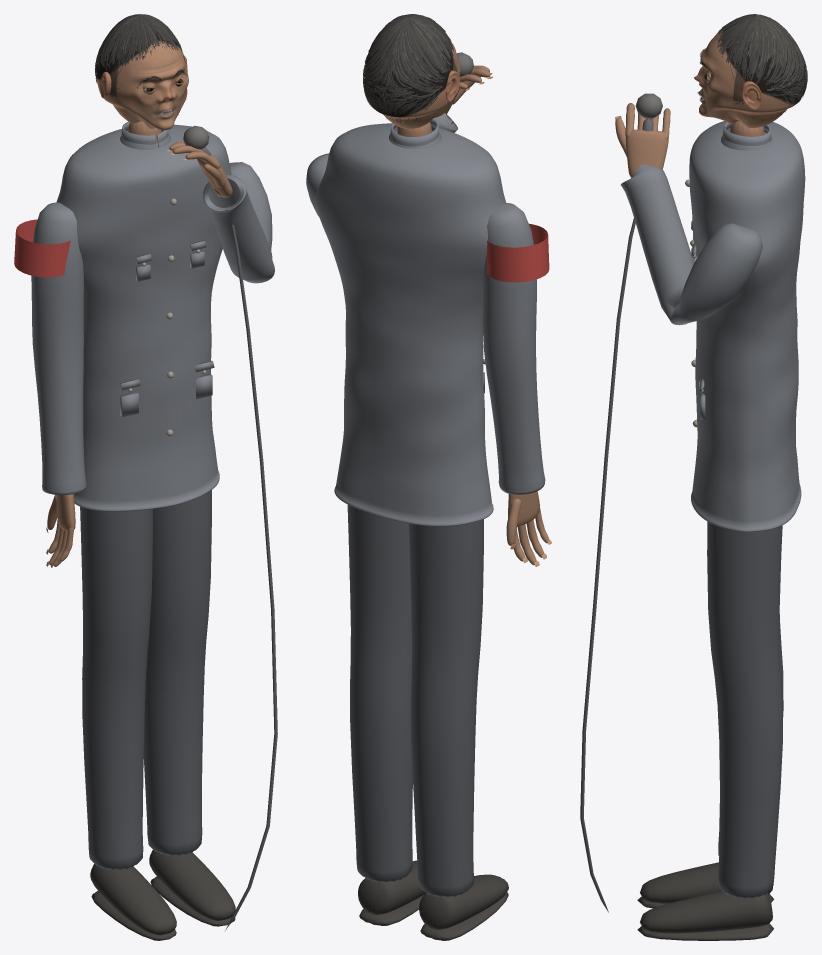
File: emcee_stage.glb
3 views of the same model, side by side, from view 1: azimuth 30°, elevation 25°; view 2: azimuth 150°, elevation 25°; view 3: azimuth 270°, elevation 25° (orthographic). The views are drawn at different scales.
Visible parts, largest first — view 1: Torso, LegL, LegR, SleeveL, Head, SleeveR, FootL, FootR, MicCable, HairCards, Armband, HandL (+3 smaller); view 2: Torso, LegL, LegR, SleeveL, HairCards, FootL, Head, FootR, Armband, HandL, SleeveR, Collar (+1 smaller); view 3: Torso, LegR, SleeveR, FootR, Head, HairCards, MicCable, HandR, FootL, Collar, MicHead.
Boxes of the visible parts, box(x1,y1,x2,y2) form: Torso: box(56, 124, 231, 511); LegL: box(80, 506, 152, 870); LegR: box(143, 490, 211, 855); SleeveL: box(31, 202, 86, 494); Head: box(96, 26, 188, 130); SleeveR: box(203, 162, 274, 283); FootL: box(90, 864, 176, 940); FootR: box(149, 849, 235, 926); MicCable: box(224, 204, 277, 931); HairCards: box(95, 14, 186, 102); Armband: box(14, 219, 70, 277); HandL: box(47, 494, 75, 566); Torso: box(315, 123, 506, 526); LegL: box(409, 519, 483, 897); LegR: box(347, 505, 412, 882); SleeveL: box(482, 203, 545, 494); HairCards: box(363, 14, 459, 122); FootL: box(419, 874, 508, 940); Head: box(364, 40, 460, 128); FootR: box(358, 860, 425, 925); Armband: box(486, 224, 549, 282); HandL: box(506, 491, 549, 565); SleeveR: box(306, 113, 457, 217); Collar: box(389, 119, 441, 148); Torso: box(689, 121, 805, 532); LegR: box(707, 521, 782, 898); SleeveR: box(621, 164, 762, 325); FootR: box(637, 891, 773, 940); Head: box(694, 21, 806, 127); HairCards: box(716, 14, 807, 115); MicCable: box(580, 218, 635, 912); HandR: box(615, 103, 670, 177); FootL: box(637, 862, 773, 908); Collar: box(721, 122, 772, 150); MicHead: box(635, 93, 662, 118).
Size of the model in its own units: 0.4783 by 1.7 by 0.3891.
19 materials, 2 textured.
